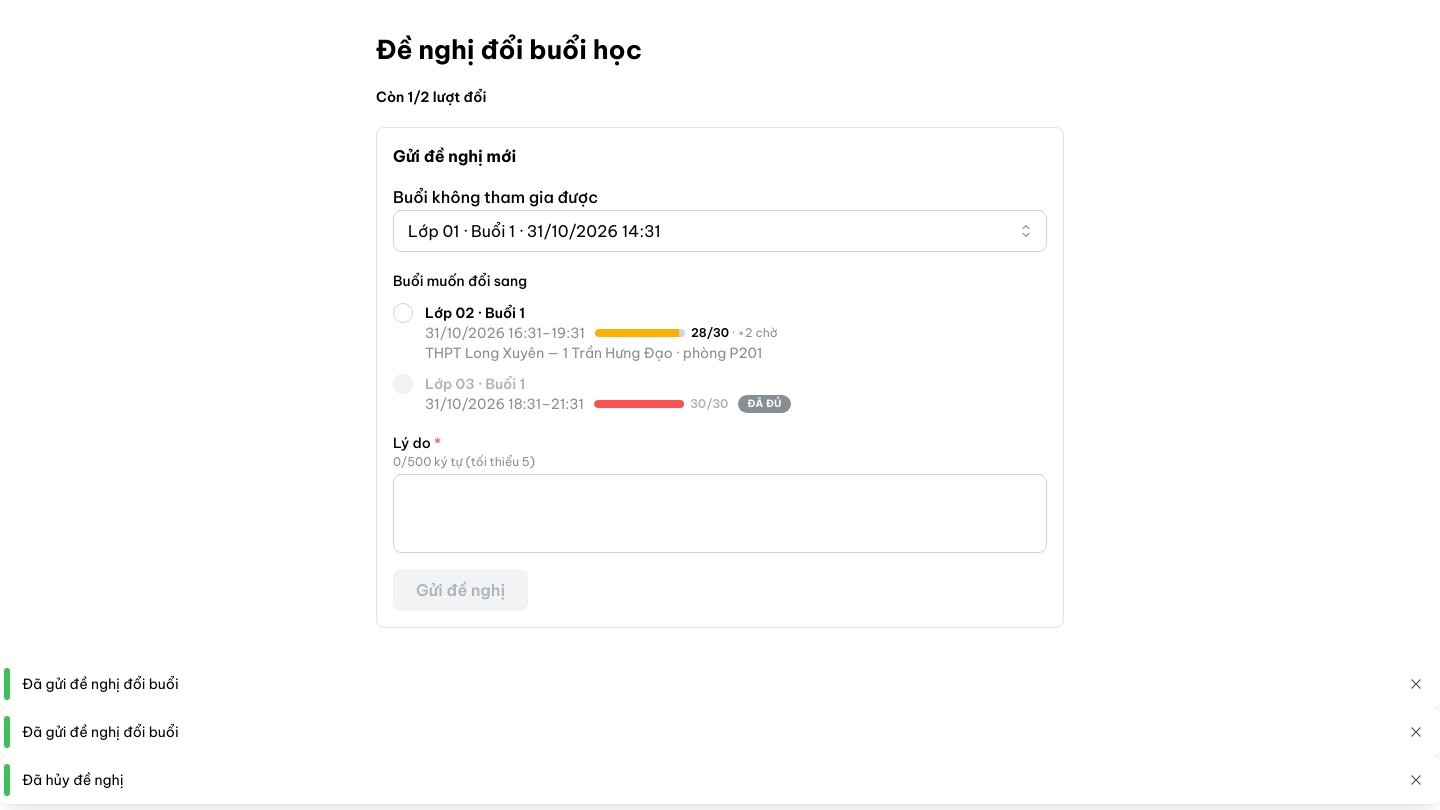
Test: Trang đề nghị đổi buổi (học viên) › đếm ký tự lý do theo chuỗi đã bỏ khoảng trắng đầu/cuối
The image size is (1440, 810).
In the text box labelled "Lý do *": (720, 514) left=393, top=474, right=1047, bottom=554, type "   abc   "
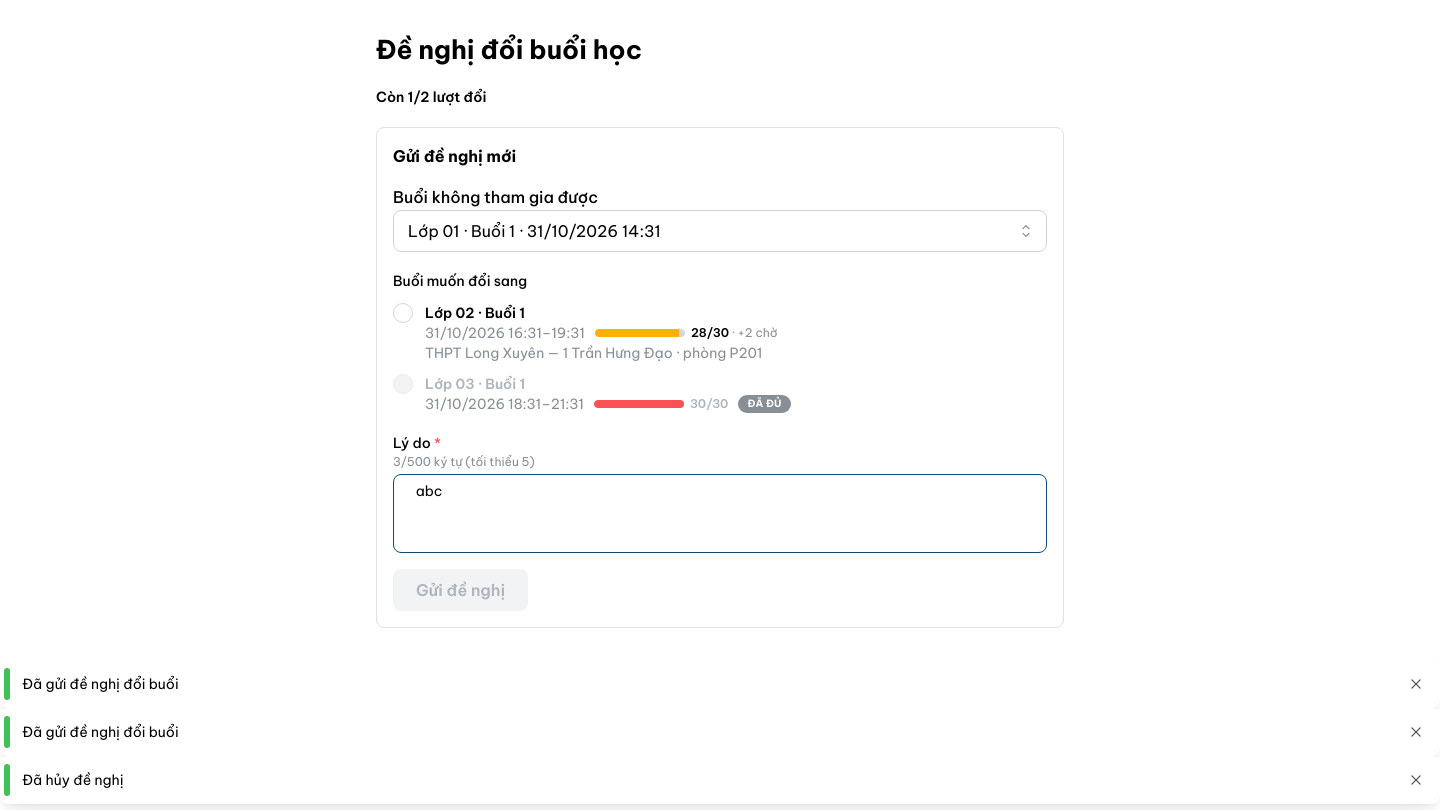
Result: the text "3/500 ký tự (tối thiểu 5)" is shown at left=393, top=454, right=535, bottom=469
